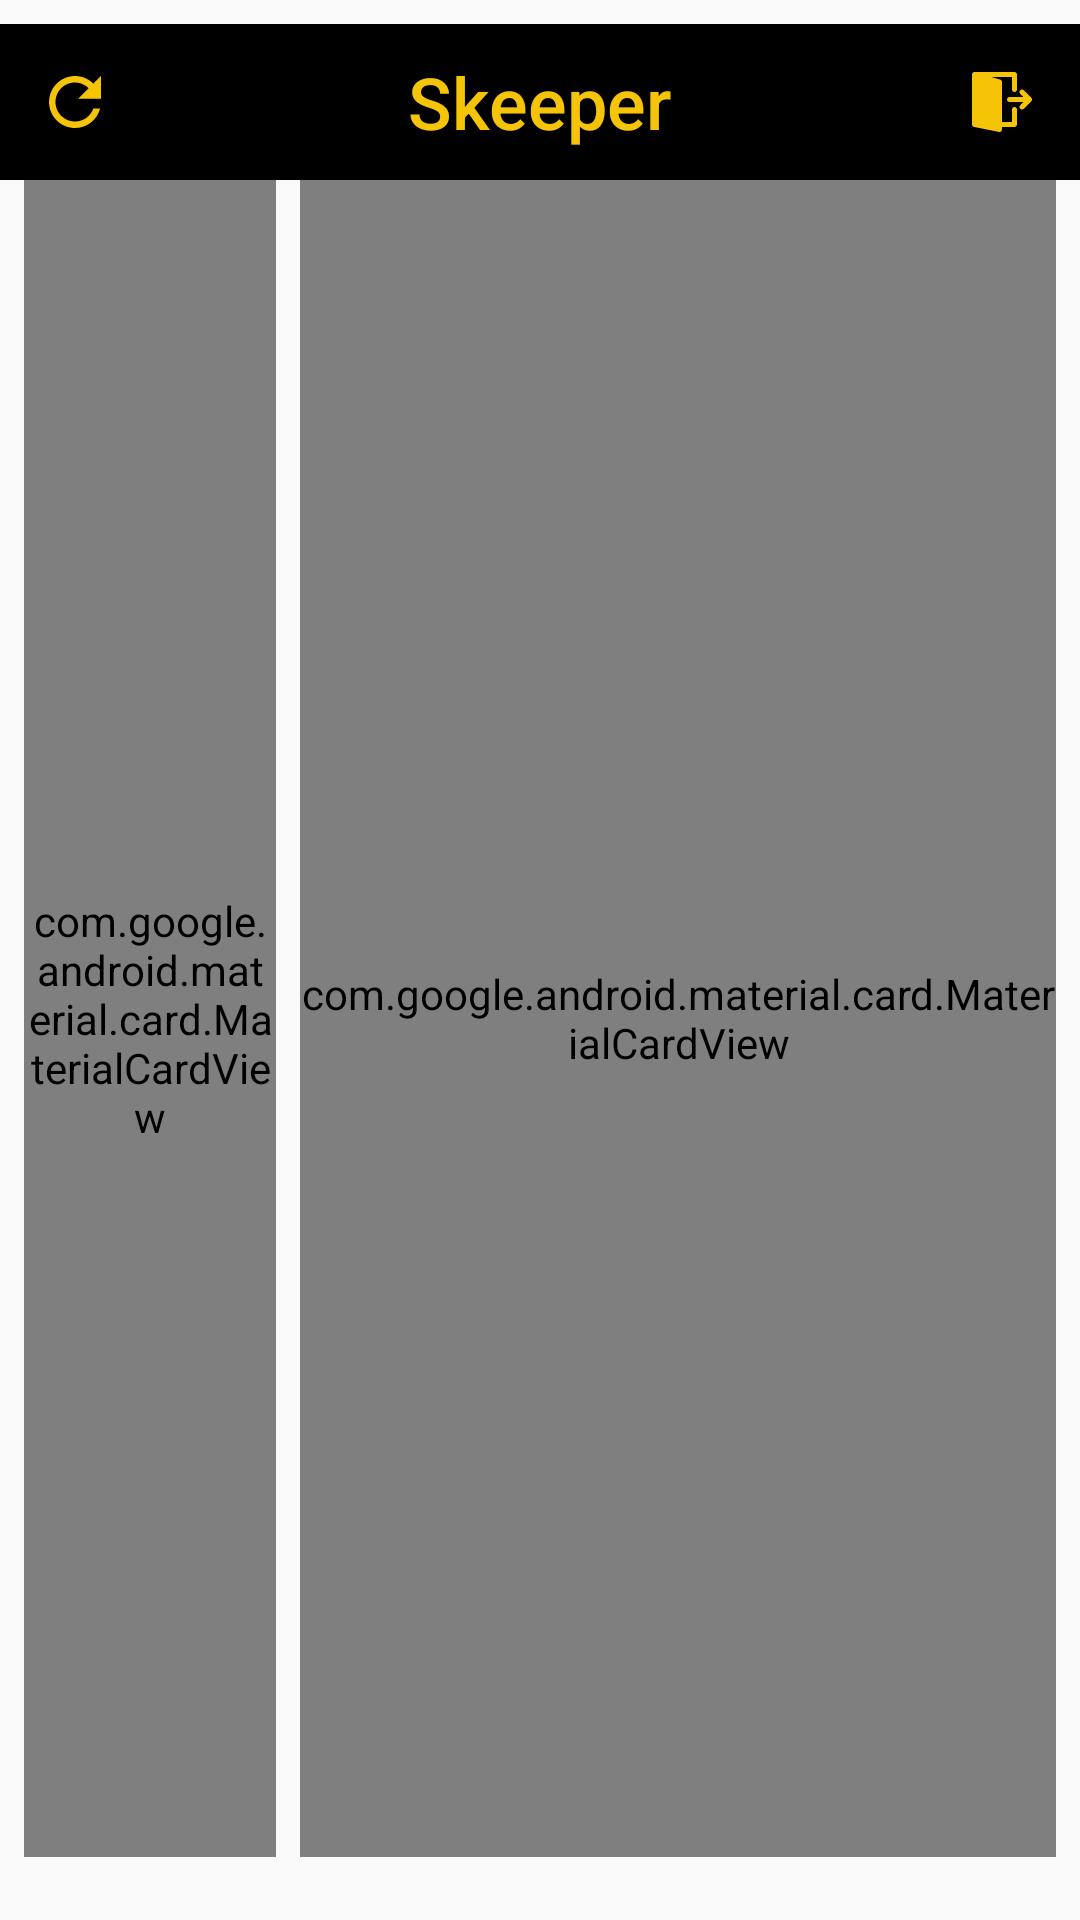

Icon click points for this 1080 × 1920 phone screenshot, format (x,y):
refresh: (75,102)
